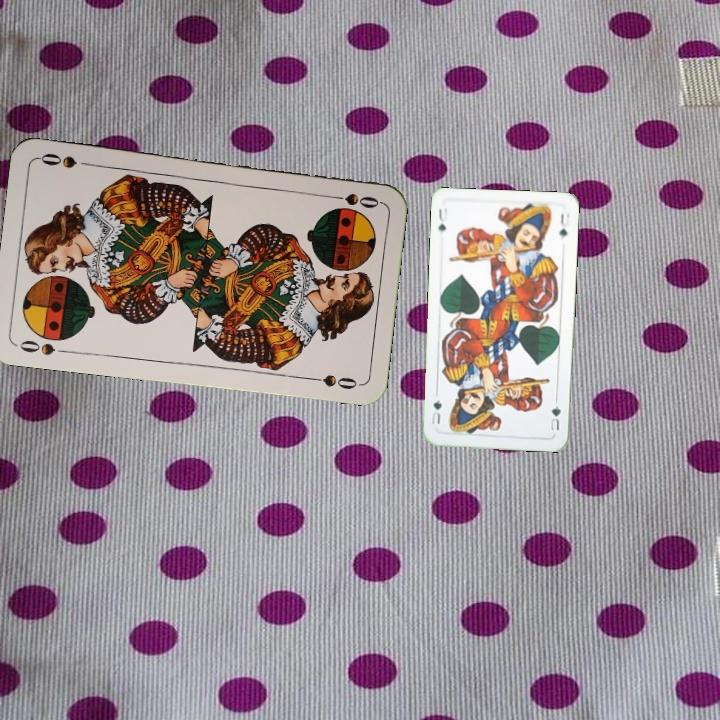GU: (547, 395, 563, 433), (434, 204, 450, 234)
SO: (323, 189, 382, 211), (16, 336, 73, 358)
